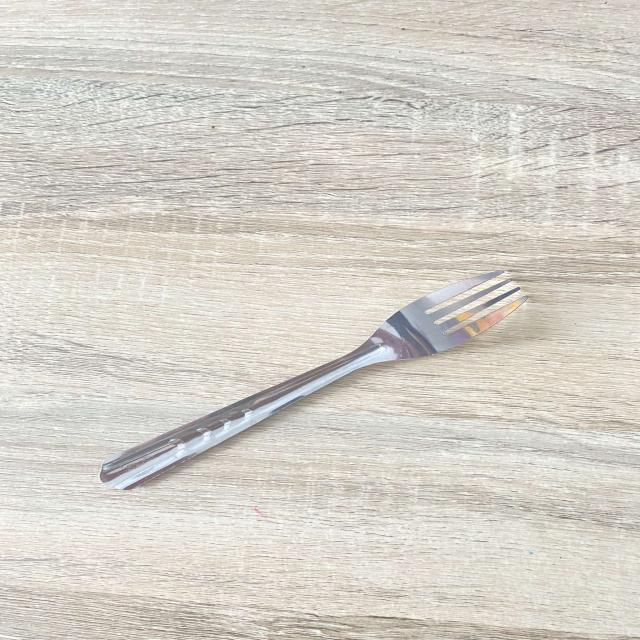fork: (88, 267, 534, 493)
